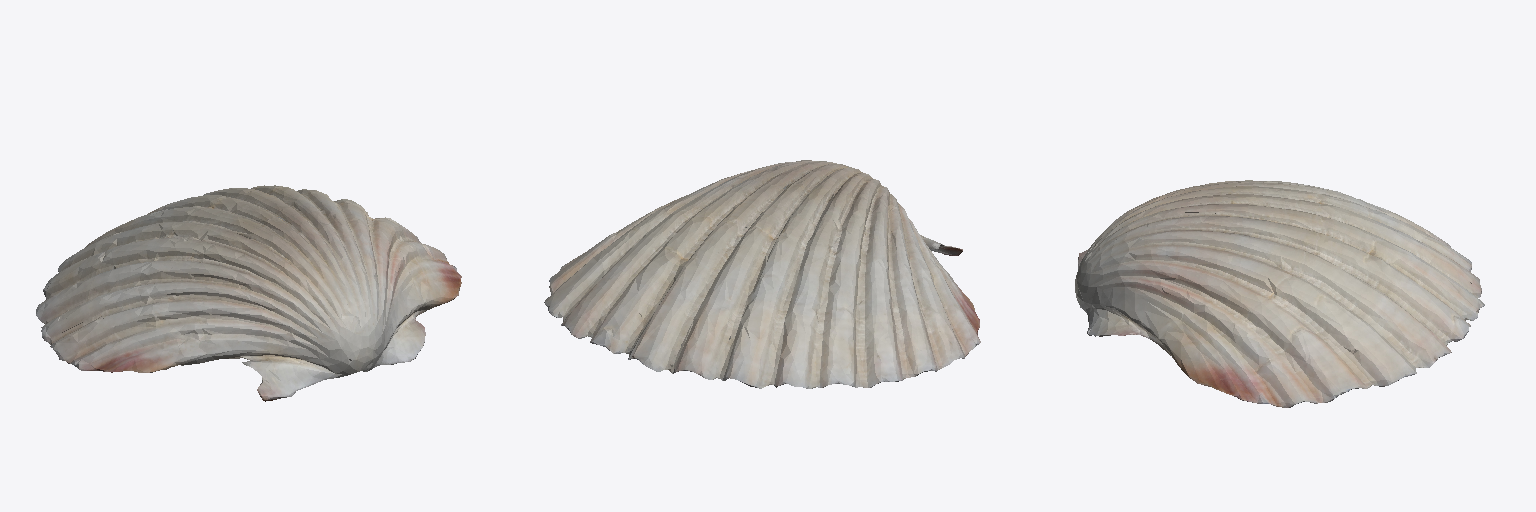
3 renders of one model, left to right at view 1: azimuth 30°, elevation 25°; view 2: azimuth 150°, elevation 25°; view 3: azimuth 270°, elevation 25°, orthographic.
Visible parts, largest first — view 1: Obj3d66_[number redacted]_17_734; view 2: Obj3d66_[number redacted]_17_734; view 3: Obj3d66_[number redacted]_17_734.
Boxes of the visible parts, box(x1,y1,x2,y2) form: Obj3d66_[number redacted]_17_734: box(36, 185, 461, 401); Obj3d66_[number redacted]_17_734: box(544, 160, 980, 388); Obj3d66_[number redacted]_17_734: box(1075, 180, 1484, 407).
Size of the model in its own units: 88.95 by 24.65 by 80.33.
1 materials, 1 textured.